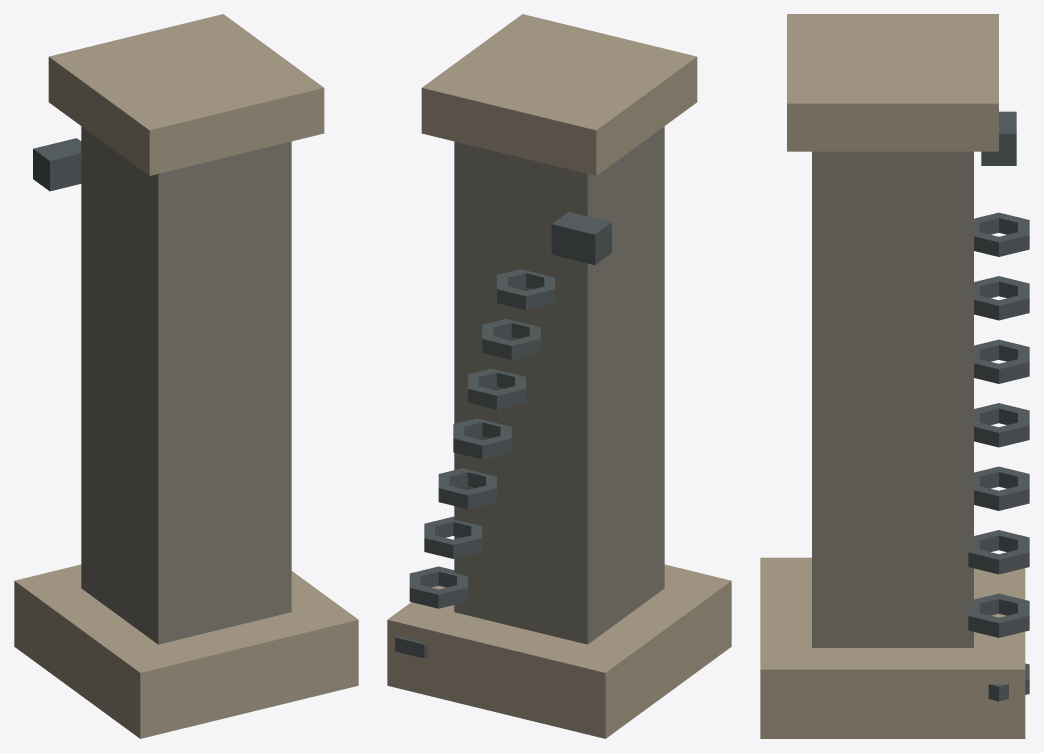
File: Decor_ChainPillar.fbx
3 views of the same model, side by side, from view 1: azimuth 30°, elevation 25°; view 2: azimuth 150°, elevation 25°; view 3: azimuth 270°, elevation 25° (orthographic). The views are drawn at different scales.
Parts seen in each view (by area): view 1: Decor_ChainPillar; view 2: Decor_ChainPillar; view 3: Decor_ChainPillar.
Boxes of the visible parts, left/top/right/bottom form: Decor_ChainPillar: left=14, top=14, right=358, bottom=738; Decor_ChainPillar: left=387, top=14, right=731, bottom=738; Decor_ChainPillar: left=760, top=14, right=1029, bottom=738.
Size of the model in its own units: 0.92 by 2.34 by 0.9139.
